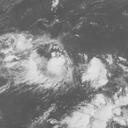cyclone: (25, 39, 76, 90)
